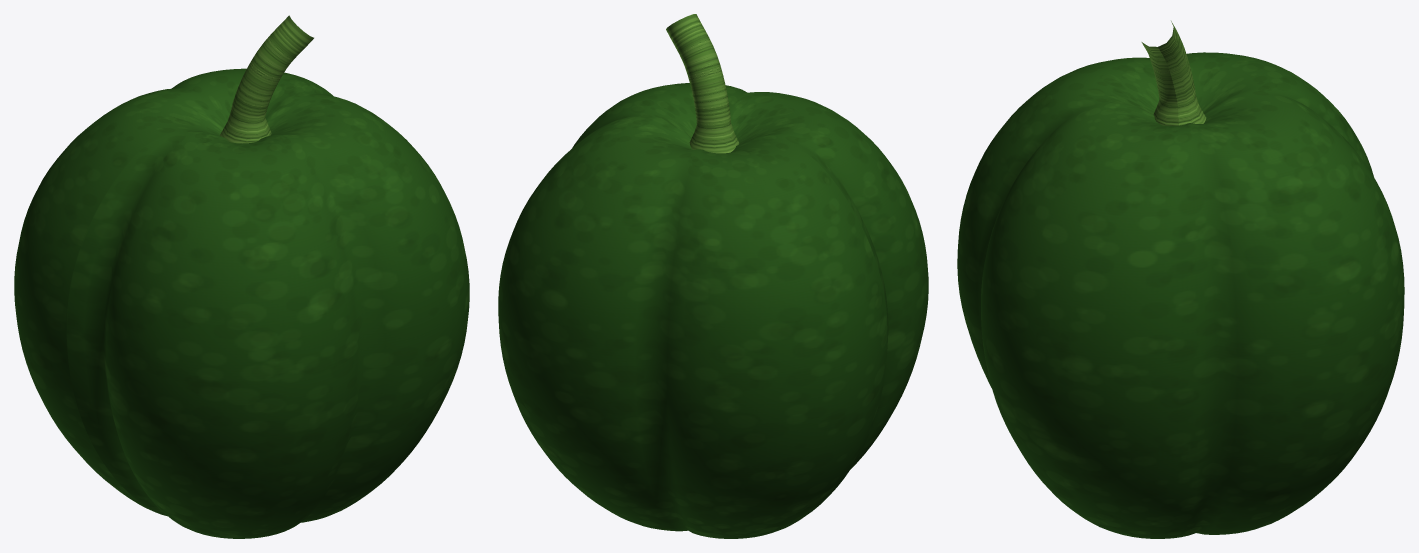
Rendered from Green_Bell_Pepper.glb.
3 views of the same model, side by side, from view 1: azimuth 30°, elevation 25°; view 2: azimuth 150°, elevation 25°; view 3: azimuth 270°, elevation 25° (orthographic). The views are drawn at different scales.
Parts seen in each view (by area): view 1: Green_Bell_Pepper_Body, Green_Bell_Pepper_Stem; view 2: Green_Bell_Pepper_Body, Green_Bell_Pepper_Stem; view 3: Green_Bell_Pepper_Body, Green_Bell_Pepper_Stem.
Part boxes in pixels (left/top/right/bottom): Green_Bell_Pepper_Body: left=14, top=68, right=469, bottom=538; Green_Bell_Pepper_Stem: left=220, top=15, right=313, bottom=143; Green_Bell_Pepper_Body: left=498, top=83, right=928, bottom=538; Green_Bell_Pepper_Stem: left=666, top=14, right=739, bottom=153; Green_Bell_Pepper_Body: left=957, top=52, right=1404, bottom=538; Green_Bell_Pepper_Stem: left=1141, top=21, right=1206, bottom=125.
Size of the model in its own units: 0.8747 by 1.1 by 0.8749.
2 materials, 2 textured.
